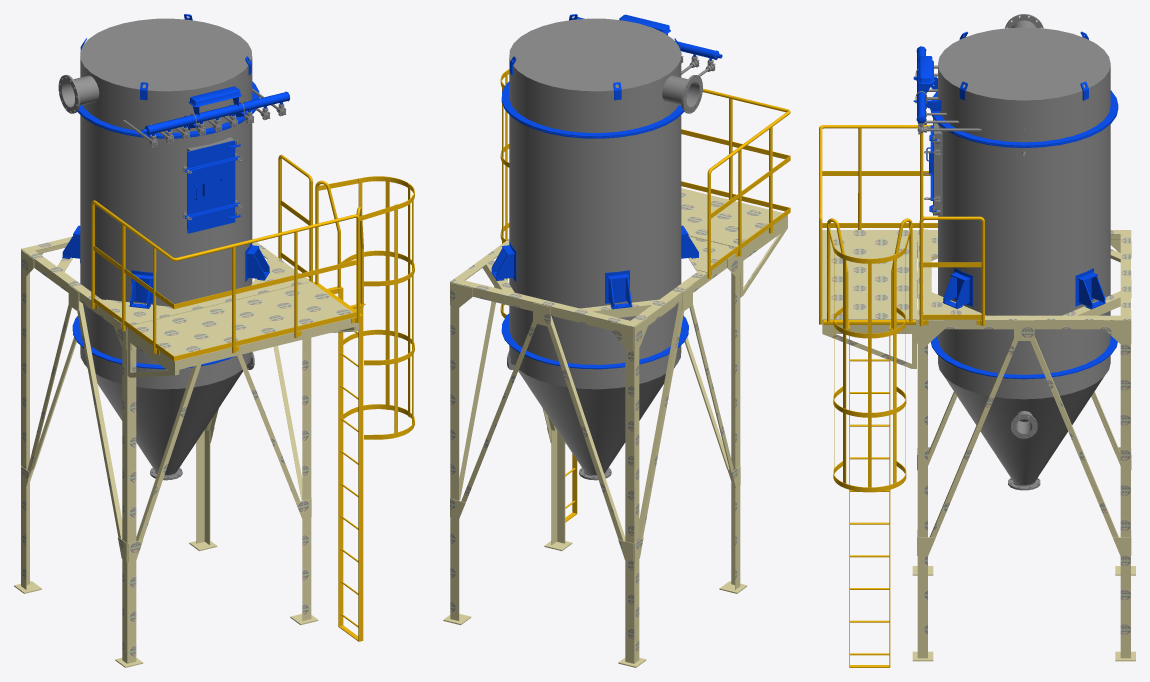
The picture shows the model from 3 angles, left to right: view 1: azimuth 30°, elevation 25°; view 2: azimuth 150°, elevation 25°; view 3: azimuth 270°, elevation 25°; orthographic projection.
Parts seen in each view (by area): view 1: ハウジング, 架台, ラダー, トッププレナム.005, ステージ, アクセスドア, ハウジング.001, テスリ.1, アウトレットノズル, カバー.008, ブラケット.2, ブラケット.004 (+4 smaller); view 2: ハウジング, 架台, トッププレナム.005, ラダー, ステージ, ハウジング.001, ハウジング.002, アウトレットノズル, ブラケット.003, ステージサポート.2.2, ブラケット.001; view 3: ハウジング, 架台, トッププレナム.005, ラダー, ステージ, ハウジング.001, テスリ.1, ハウジング.002, ステップ, ステージサポート.3, ブラケット.001, ブラケット.004 (+6 smaller).
Boxes of the visible parts, left/top/right/bottom form: ハウジング: left=80, top=115, right=252, bottom=480; 架台: left=14, top=236, right=318, bottom=667; ラダー: left=91, top=176, right=414, bottom=641; トッププレナム.005: left=80, top=18, right=252, bottom=132; ステージ: left=127, top=282, right=358, bottom=370; アクセスドア: left=184, top=105, right=240, bottom=233; ハウジング.001: left=77, top=14, right=290, bottom=138; テスリ.1: left=278, top=154, right=312, bottom=282; アウトレットノズル: left=58, top=75, right=99, bottom=113; カバー.008: left=122, top=88, right=286, bottom=147; ブラケット.2: left=129, top=270, right=156, bottom=308; ブラケット.004: left=245, top=243, right=269, bottom=281; ハウジング: left=509, top=115, right=681, bottom=480; 架台: left=443, top=236, right=747, bottom=667; トッププレナム.005: left=509, top=18, right=681, bottom=132; ラダー: left=500, top=69, right=790, bottom=522; ステージ: left=681, top=188, right=787, bottom=257; ハウジング.001: left=501, top=14, right=722, bottom=138; ハウジング.002: left=501, top=313, right=688, bottom=369; アウトレットノズル: left=662, top=75, right=702, bottom=113; ブラケット.003: left=605, top=270, right=632, bottom=309; ステージサポート.2.2: left=740, top=224, right=787, bottom=297; ブラケット.001: left=491, top=241, right=516, bottom=281; ハウジング: left=938, top=124, right=1110, bottom=490; 架台: left=912, top=230, right=1135, bottom=661; トッププレナム.005: left=938, top=27, right=1110, bottom=142; ラダー: left=819, top=125, right=937, bottom=667; ステージ: left=822, top=230, right=916, bottom=329; ハウジング.001: left=916, top=31, right=1118, bottom=147; テスリ.1: left=919, top=216, right=984, bottom=326; ハウジング.002: left=931, top=335, right=1117, bottom=379; ステップ: left=850, top=359, right=889, bottom=655; ステージサポート.3: left=822, top=329, right=916, bottom=368; ブラケット.001: left=1075, top=268, right=1105, bottom=309; ブラケット.004: left=942, top=268, right=972, bottom=308.
Size of the model in its own units: 2.98 by 5.97 by 3.08.
4 materials, 1 textured.
